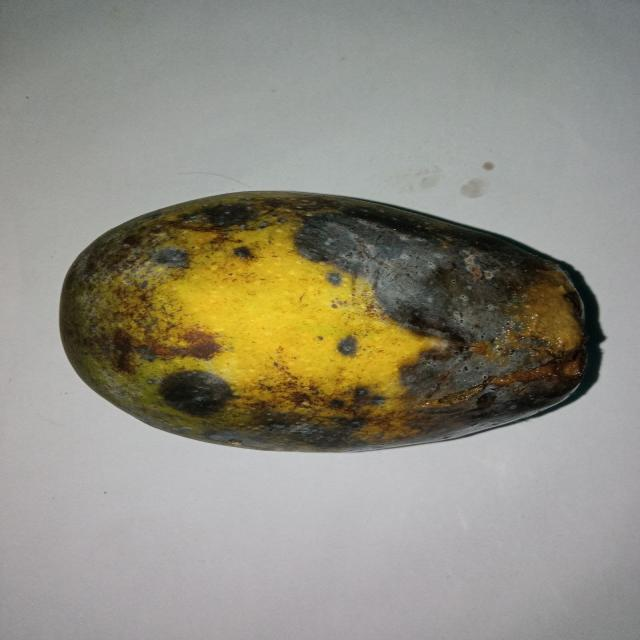rotten_mango: (57, 191, 586, 450)
